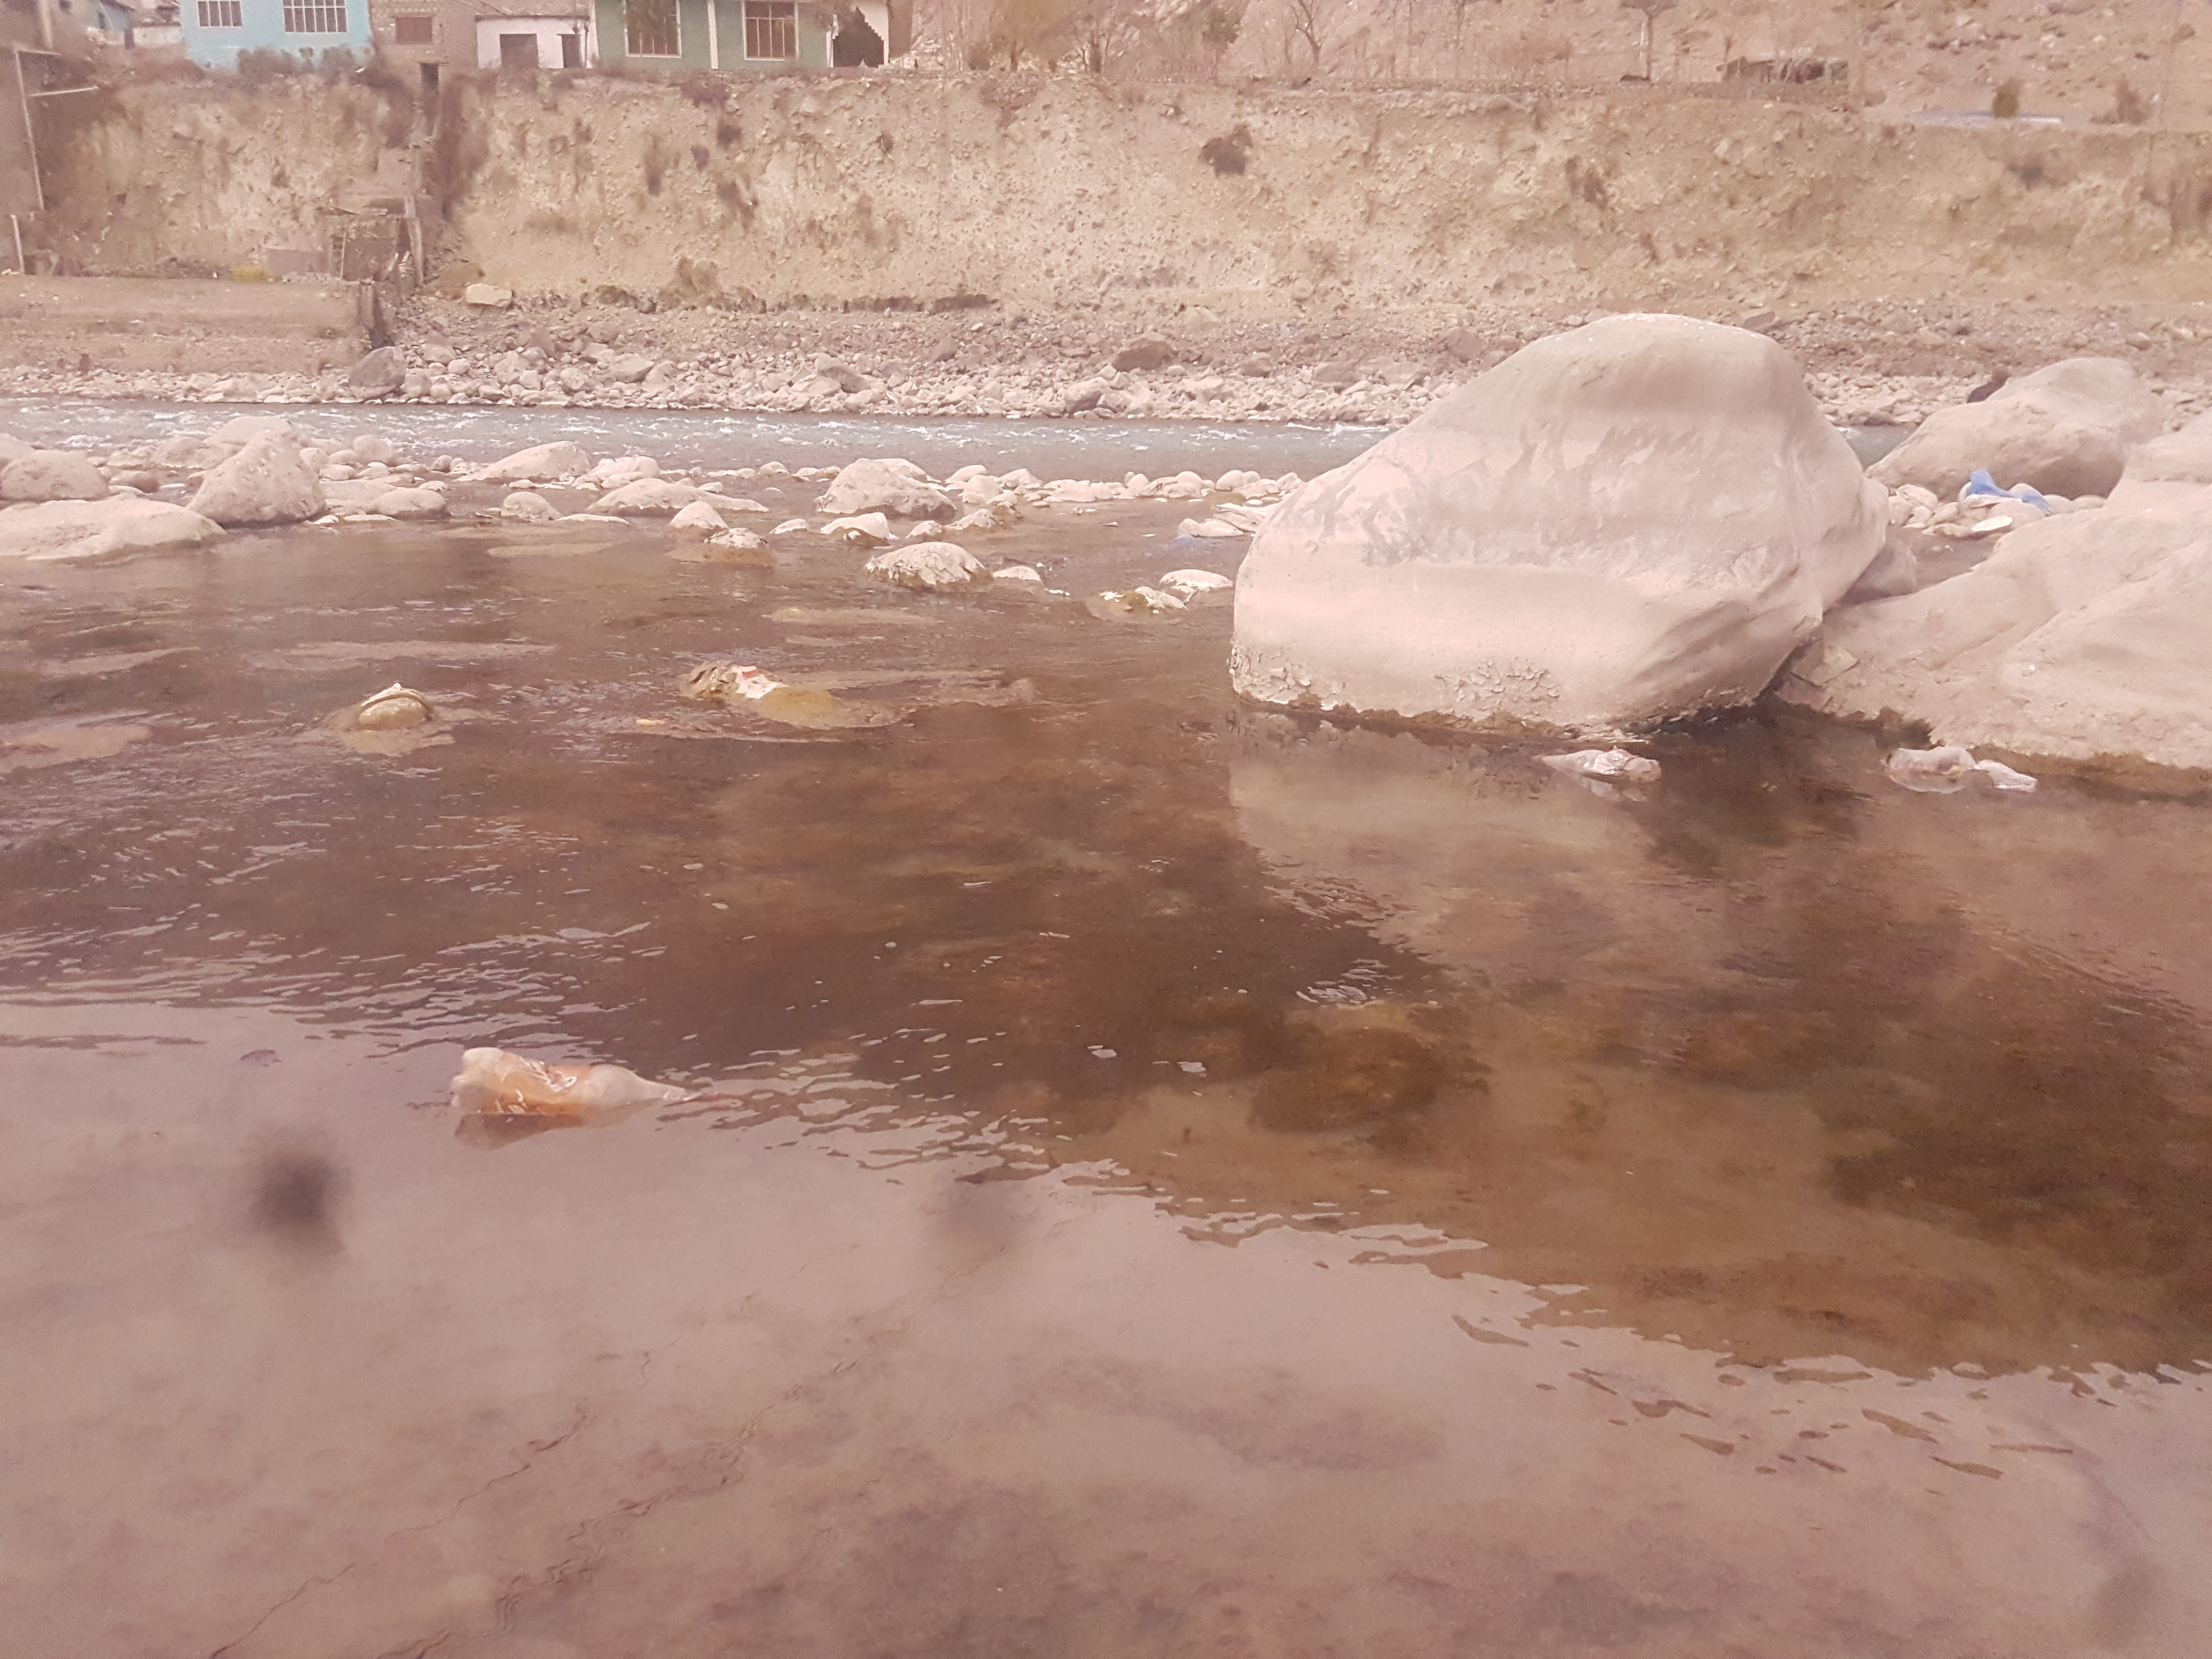Plastic Bottle: (451, 1046, 704, 1117), (1534, 749, 1662, 779), (1174, 533, 1193, 540)
